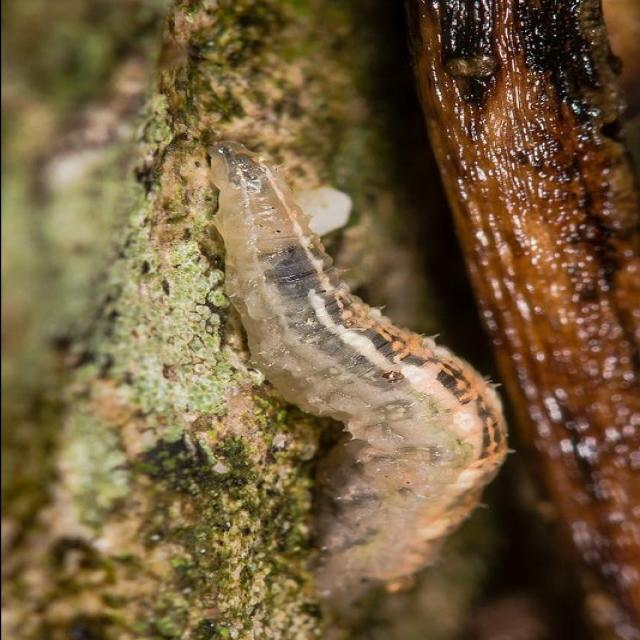grub: (198, 141, 524, 601)
